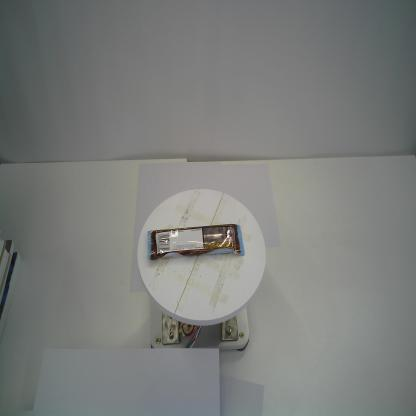Chocolate: (147, 223, 246, 260)
